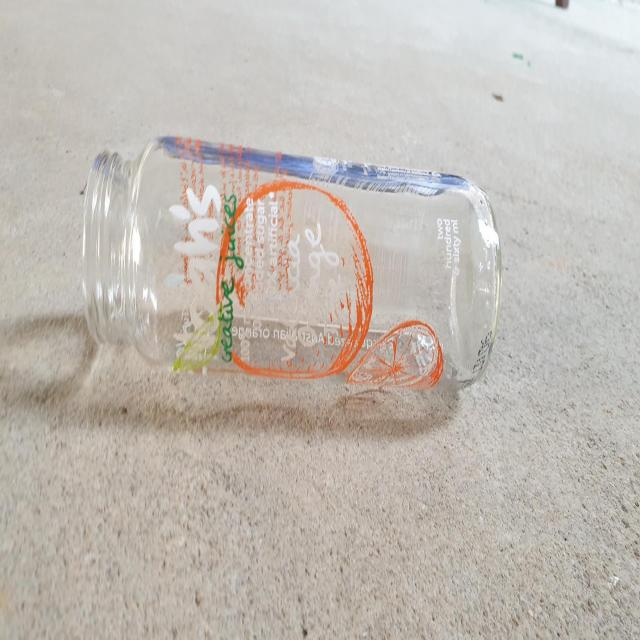glass: (82, 135, 502, 388)
